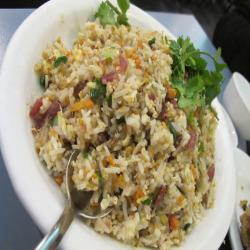rice: (28, 18, 225, 244)
salad: (159, 36, 241, 118)
